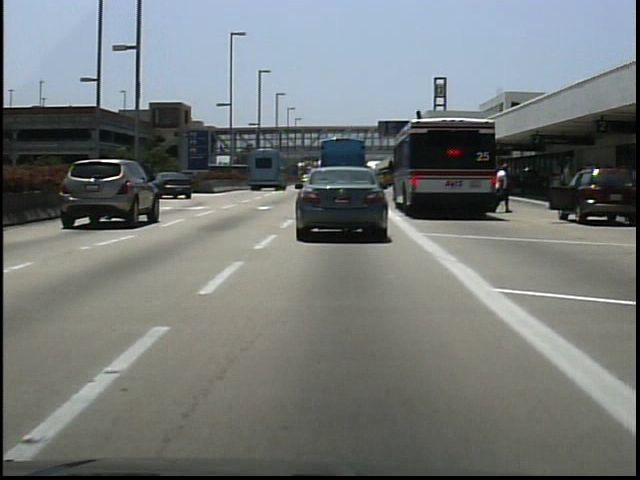person: (493, 158, 514, 220)
